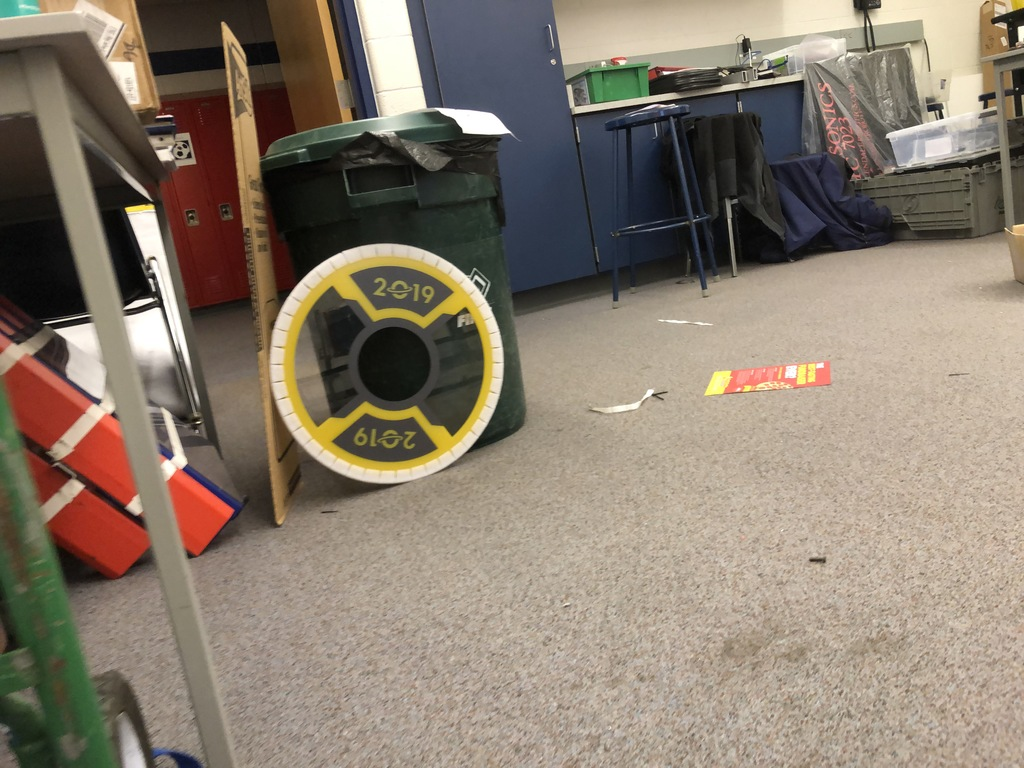hatch_panel: (262, 219, 513, 499)
